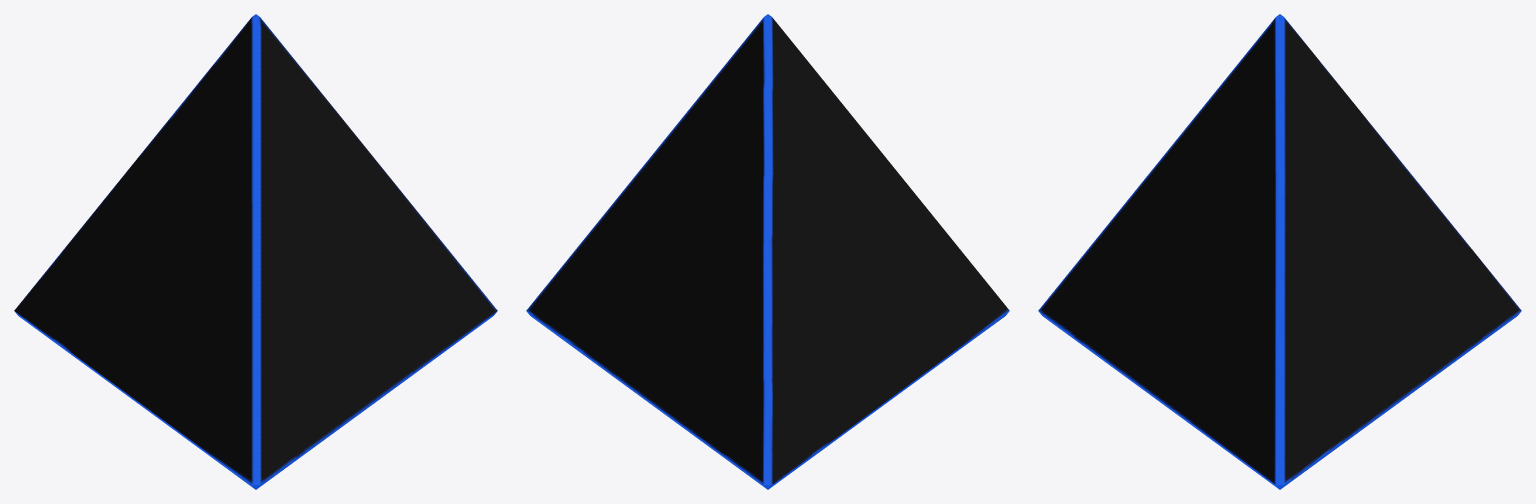
The model's file is Hình tứ diện đều.glb.
The picture shows the model from 3 angles, left to right: view 1: azimuth 30°, elevation 25°; view 2: azimuth 150°, elevation 25°; view 3: azimuth 270°, elevation 25°; orthographic projection.
Parts seen in each view (by area): view 1: Object_3; view 2: Object_3; view 3: Object_3.
Boxes of the visible parts, x1,y1,x2,y2 form: Object_3: (14,14,497,489); Object_3: (526,14,1009,489); Object_3: (1038,14,1521,489).
Size of the model in its own units: 0.8372 by 0.7893 by 0.9667.
Materials: 1 (1 with a texture image).
